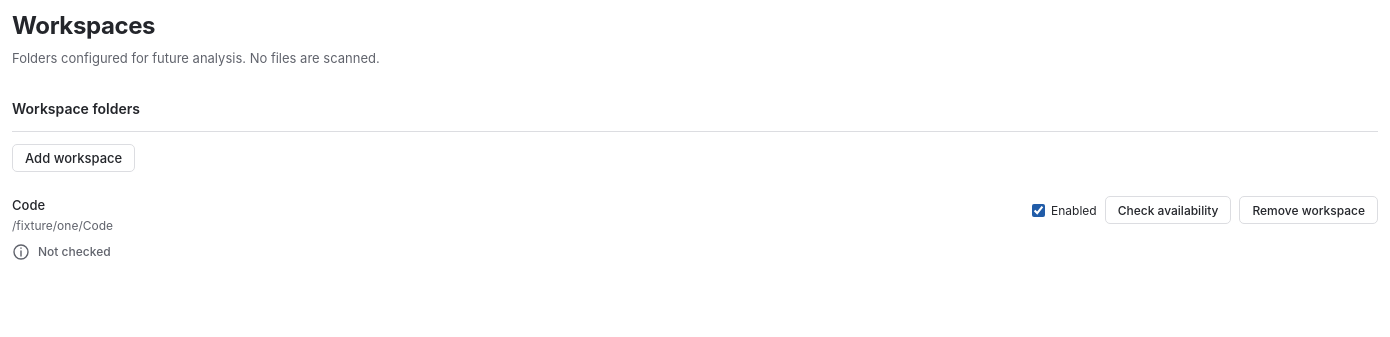
Scenario: Workspaces view › confirms the committed enabled choice with an icon and specific visible text
Click the checkbox labelled "Enabled". click: x=1038, y=210
box: top-left (1032, 204), bottom-right (1045, 217)
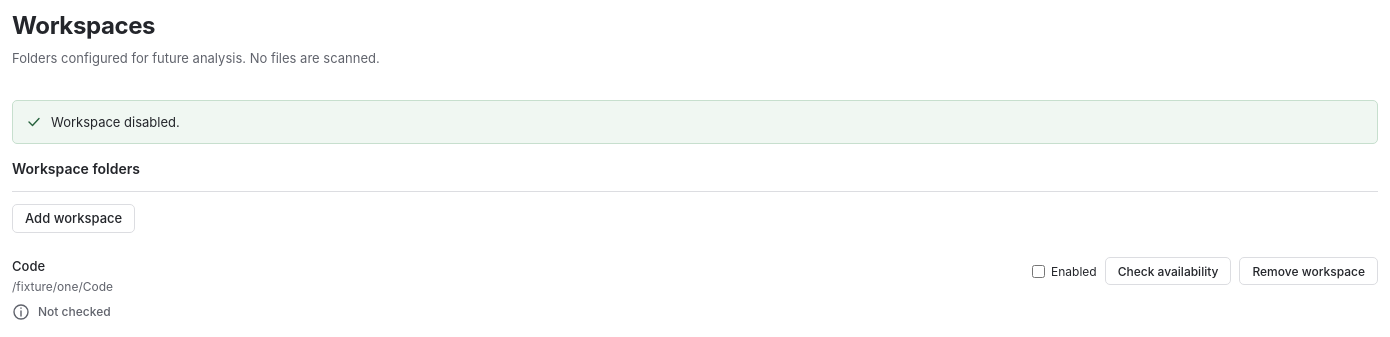
Expected: the message reads "Workspace disabled.", top-left (51, 114), bottom-right (180, 130)
